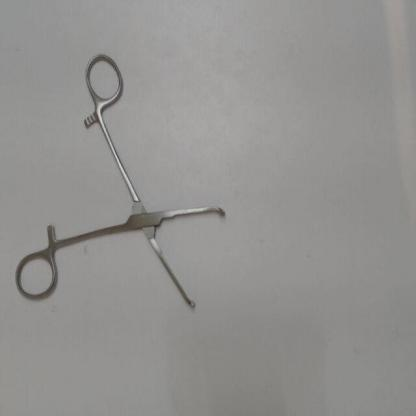Allis Tissue Forceps: (10, 46, 240, 318)
